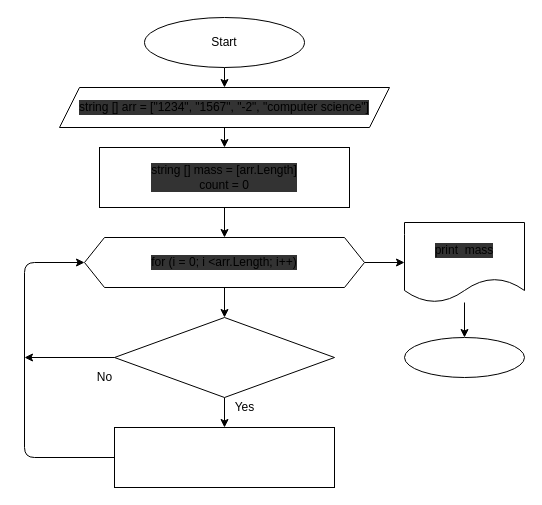
This 542x505 diagram has some shape labels left out. The centre of each missing label's shape, as x and y in pixels:
"arr[i].Length < 3" goes at pixel 224 357.
"End" goes at pixel 464 357.
"mass[count] = arr[i] count = count + 1" goes at pixel 224 457.
